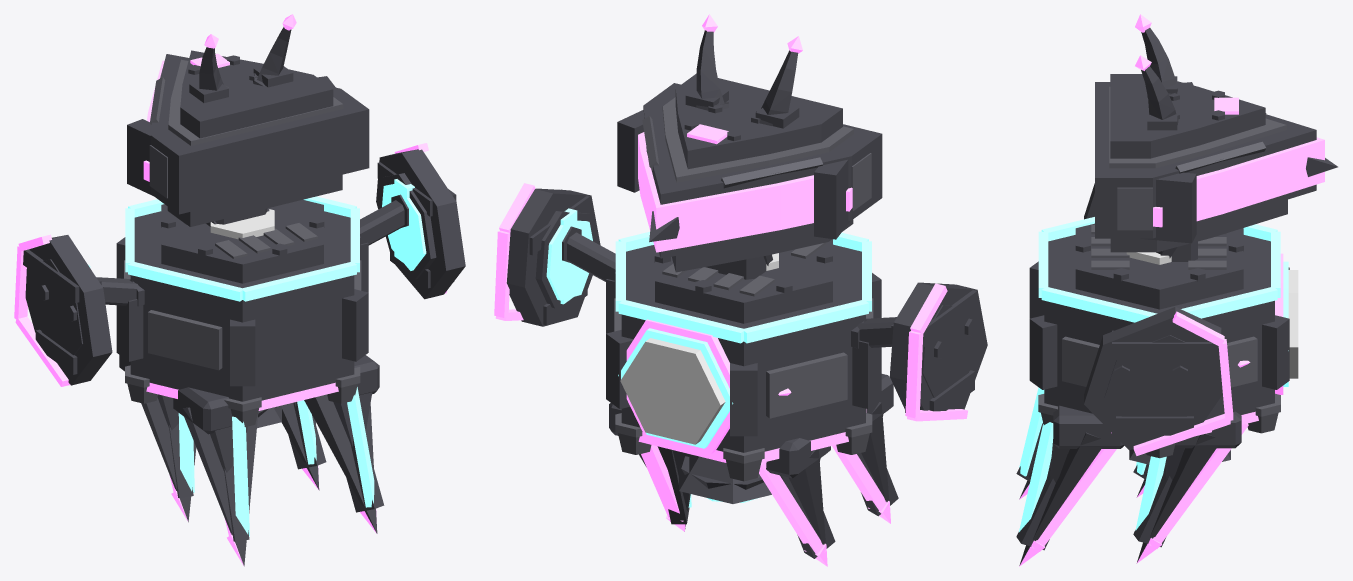
File: Scan.fbx
3 renders of one model, left to right at view 1: azimuth 30°, elevation 25°; view 2: azimuth 150°, elevation 25°; view 3: azimuth 270°, elevation 25°, orthographic. The views are drawn at different scales.
Visible parts, largest first — view 1: Scan_Core_Body, Scan_Head_Body, Scan_Pod_L_Body, Scan_Pod_R_Body, Scan_Fin_BL_Body, Scan_CoreRing_Cyan, Scan_CorePanels_BodyLight, Scan_Fin_BR_Body, Scan_HeadTrim_BodyLight, Scan_Fin_FL_Body, Scan_Thrusters_BodyLight, Scan_PodFace_R_Cyan (+12 smaller); view 2: Scan_Core_Body, Scan_Head_Body, Scan_Visor_Magenta, Scan_Pod_L_Body, Scan_CoreRing_Cyan, Scan_CoreGlow_Core, Scan_Pod_R_Body, Scan_HeadTrim_BodyLight, Scan_CorePanels_BodyLight, Scan_Fin_FL_Body, Scan_CoreEdge_Magenta, Scan_LensHousing_Body (+14 smaller); view 3: Scan_Core_Body, Scan_Head_Body, Scan_Pod_R_Body, Scan_Visor_Magenta, Scan_CoreRing_Cyan, Scan_Fin_BR_Body, Scan_HeadTrim_BodyLight, Scan_CorePanels_BodyLight, Scan_Fin_FR_Body, Scan_PodEdge_R_Magenta, Scan_FinEdge_FR_Magenta, Scan_FinEdge_BR_Magenta (+9 smaller).
Boxes of the visible parts, x1=… form: Scan_Core_Body: x1=116, y1=200, x2=368, y2=401; Scan_Head_Body: x1=127, y1=50, x2=369, y2=226; Scan_Pod_L_Body: x1=23, y1=235, x2=112, y2=385; Scan_Pod_R_Body: x1=376, y1=149, x2=465, y2=299; Scan_Fin_BL_Body: x1=173, y1=387, x2=258, y2=566; Scan_CoreRing_Cyan: x1=125, y1=196, x2=359, y2=301; Scan_CorePanels_BodyLight: x1=124, y1=211, x2=361, y2=370; Scan_Fin_BR_Body: x1=304, y1=355, x2=384, y2=533; Scan_HeadTrim_BodyLight: x1=149, y1=59, x2=343, y2=198; Scan_Fin_FL_Body: x1=119, y1=355, x2=196, y2=522; Scan_Thrusters_BodyLight: x1=125, y1=365, x2=360, y2=427; Scan_PodFace_R_Cyan: x1=382, y1=179, x2=426, y2=270; Scan_Core_Body: x1=606, y1=239, x2=881, y2=452; Scan_Head_Body: x1=617, y1=73, x2=882, y2=272; Scan_Visor_Magenta: x1=638, y1=124, x2=852, y2=252; Scan_Pod_L_Body: x1=889, y1=282, x2=987, y2=412; Scan_CoreRing_Cyan: x1=615, y1=231, x2=871, y2=448; Scan_CoreGlow_Core: x1=620, y1=253, x2=778, y2=444; Scan_Pod_R_Body: x1=506, y1=188, x2=600, y2=326; Scan_HeadTrim_BodyLight: x1=642, y1=97, x2=871, y2=211; Scan_CorePanels_BodyLight: x1=614, y1=242, x2=873, y2=418; Scan_Fin_FL_Body: x1=766, y1=438, x2=835, y2=558; Scan_CoreEdge_Magenta: x1=626, y1=319, x2=866, y2=462; Scan_LensHousing_Body: x1=679, y1=455, x2=771, y2=503; Scan_Core_Body: x1=1029, y1=223, x2=1289, y2=420; Scan_Head_Body: x1=1095, y1=74, x2=1337, y2=252; Scan_Pod_R_Body: x1=1084, y1=307, x2=1222, y2=450; Scan_Visor_Magenta: x1=1153, y1=97, x2=1324, y2=227; Scan_CoreRing_Cyan: x1=1038, y1=217, x2=1288, y2=386; Scan_Fin_BR_Body: x1=1016, y1=405, x2=1124, y2=565; Scan_HeadTrim_BodyLight: x1=1109, y1=86, x2=1286, y2=230; Scan_CorePanels_BodyLight: x1=1062, y1=225, x2=1257, y2=387; Scan_Fin_FR_Body: x1=1133, y1=411, x2=1241, y2=562; Scan_PodEdge_R_Magenta: x1=1133, y1=311, x2=1233, y2=455; Scan_FinEdge_FR_Magenta: x1=1137, y1=423, x2=1248, y2=563; Scan_FinEdge_BR_Magenta: x1=1019, y1=449, x2=1116, y2=566.
Size of what is drawn, in the model's own units: 6.72 by 8.06 by 4.72.
